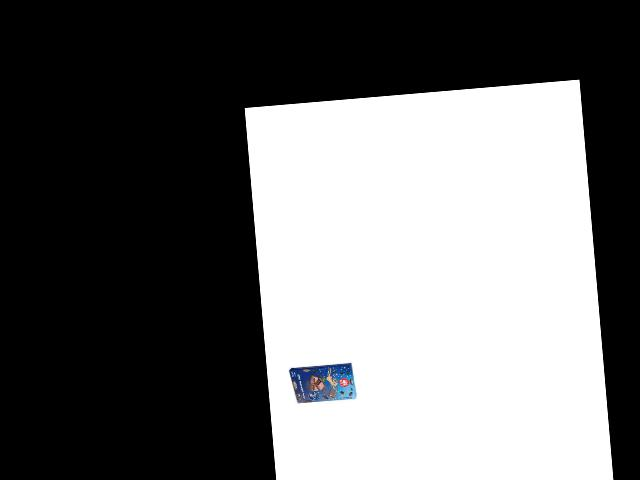chocolate: (288, 358, 358, 408)
